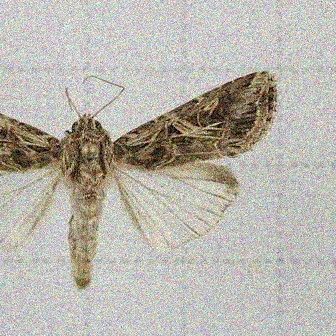Spodoptera litura: (0, 70, 279, 291)
